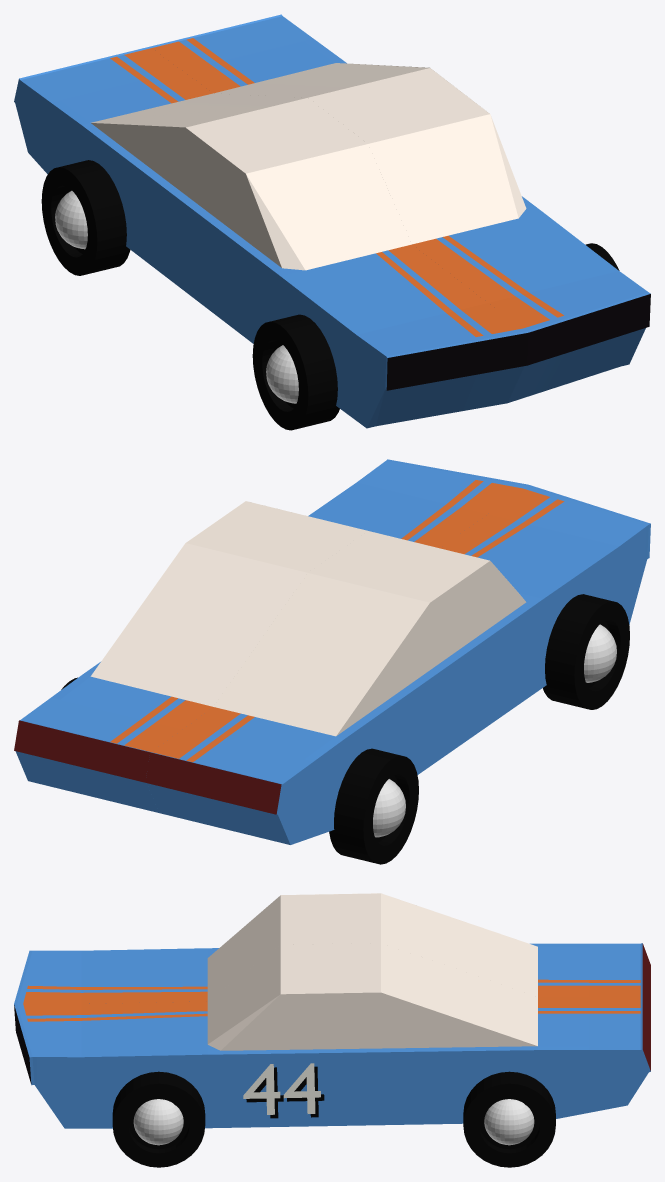
Rendered from Vervaeck_Jeroen_toy.glb.
3 renders of one model, top to bottom at view 1: azimuth 30°, elevation 25°; view 2: azimuth 150°, elevation 25°; view 3: azimuth 270°, elevation 25°, orthographic. The views are drawn at different scales.
Visible parts, largest first — view 1: body, weels, weels linked dup; view 2: body, weels linked dup, weels; view 3: body, weels, weels linked dup, 44, 44 detail.
Part boxes in pixels (bbox=[...]): body: bbox=[14, 14, 650, 428]; weels: bbox=[252, 243, 619, 430]; weels linked dup: bbox=[41, 160, 130, 275]; body: bbox=[14, 459, 650, 844]; weels linked dup: bbox=[61, 677, 418, 864]; weels: bbox=[543, 594, 629, 709]; body: bbox=[14, 893, 650, 1128]; weels: bbox=[112, 1071, 205, 1167]; weels linked dup: bbox=[463, 1071, 555, 1167]; 44: bbox=[243, 1063, 320, 1114]; 44 detail: bbox=[246, 1066, 324, 1118].
Size of the model in its own units: 4.06 by 2.17 by 7.86.
